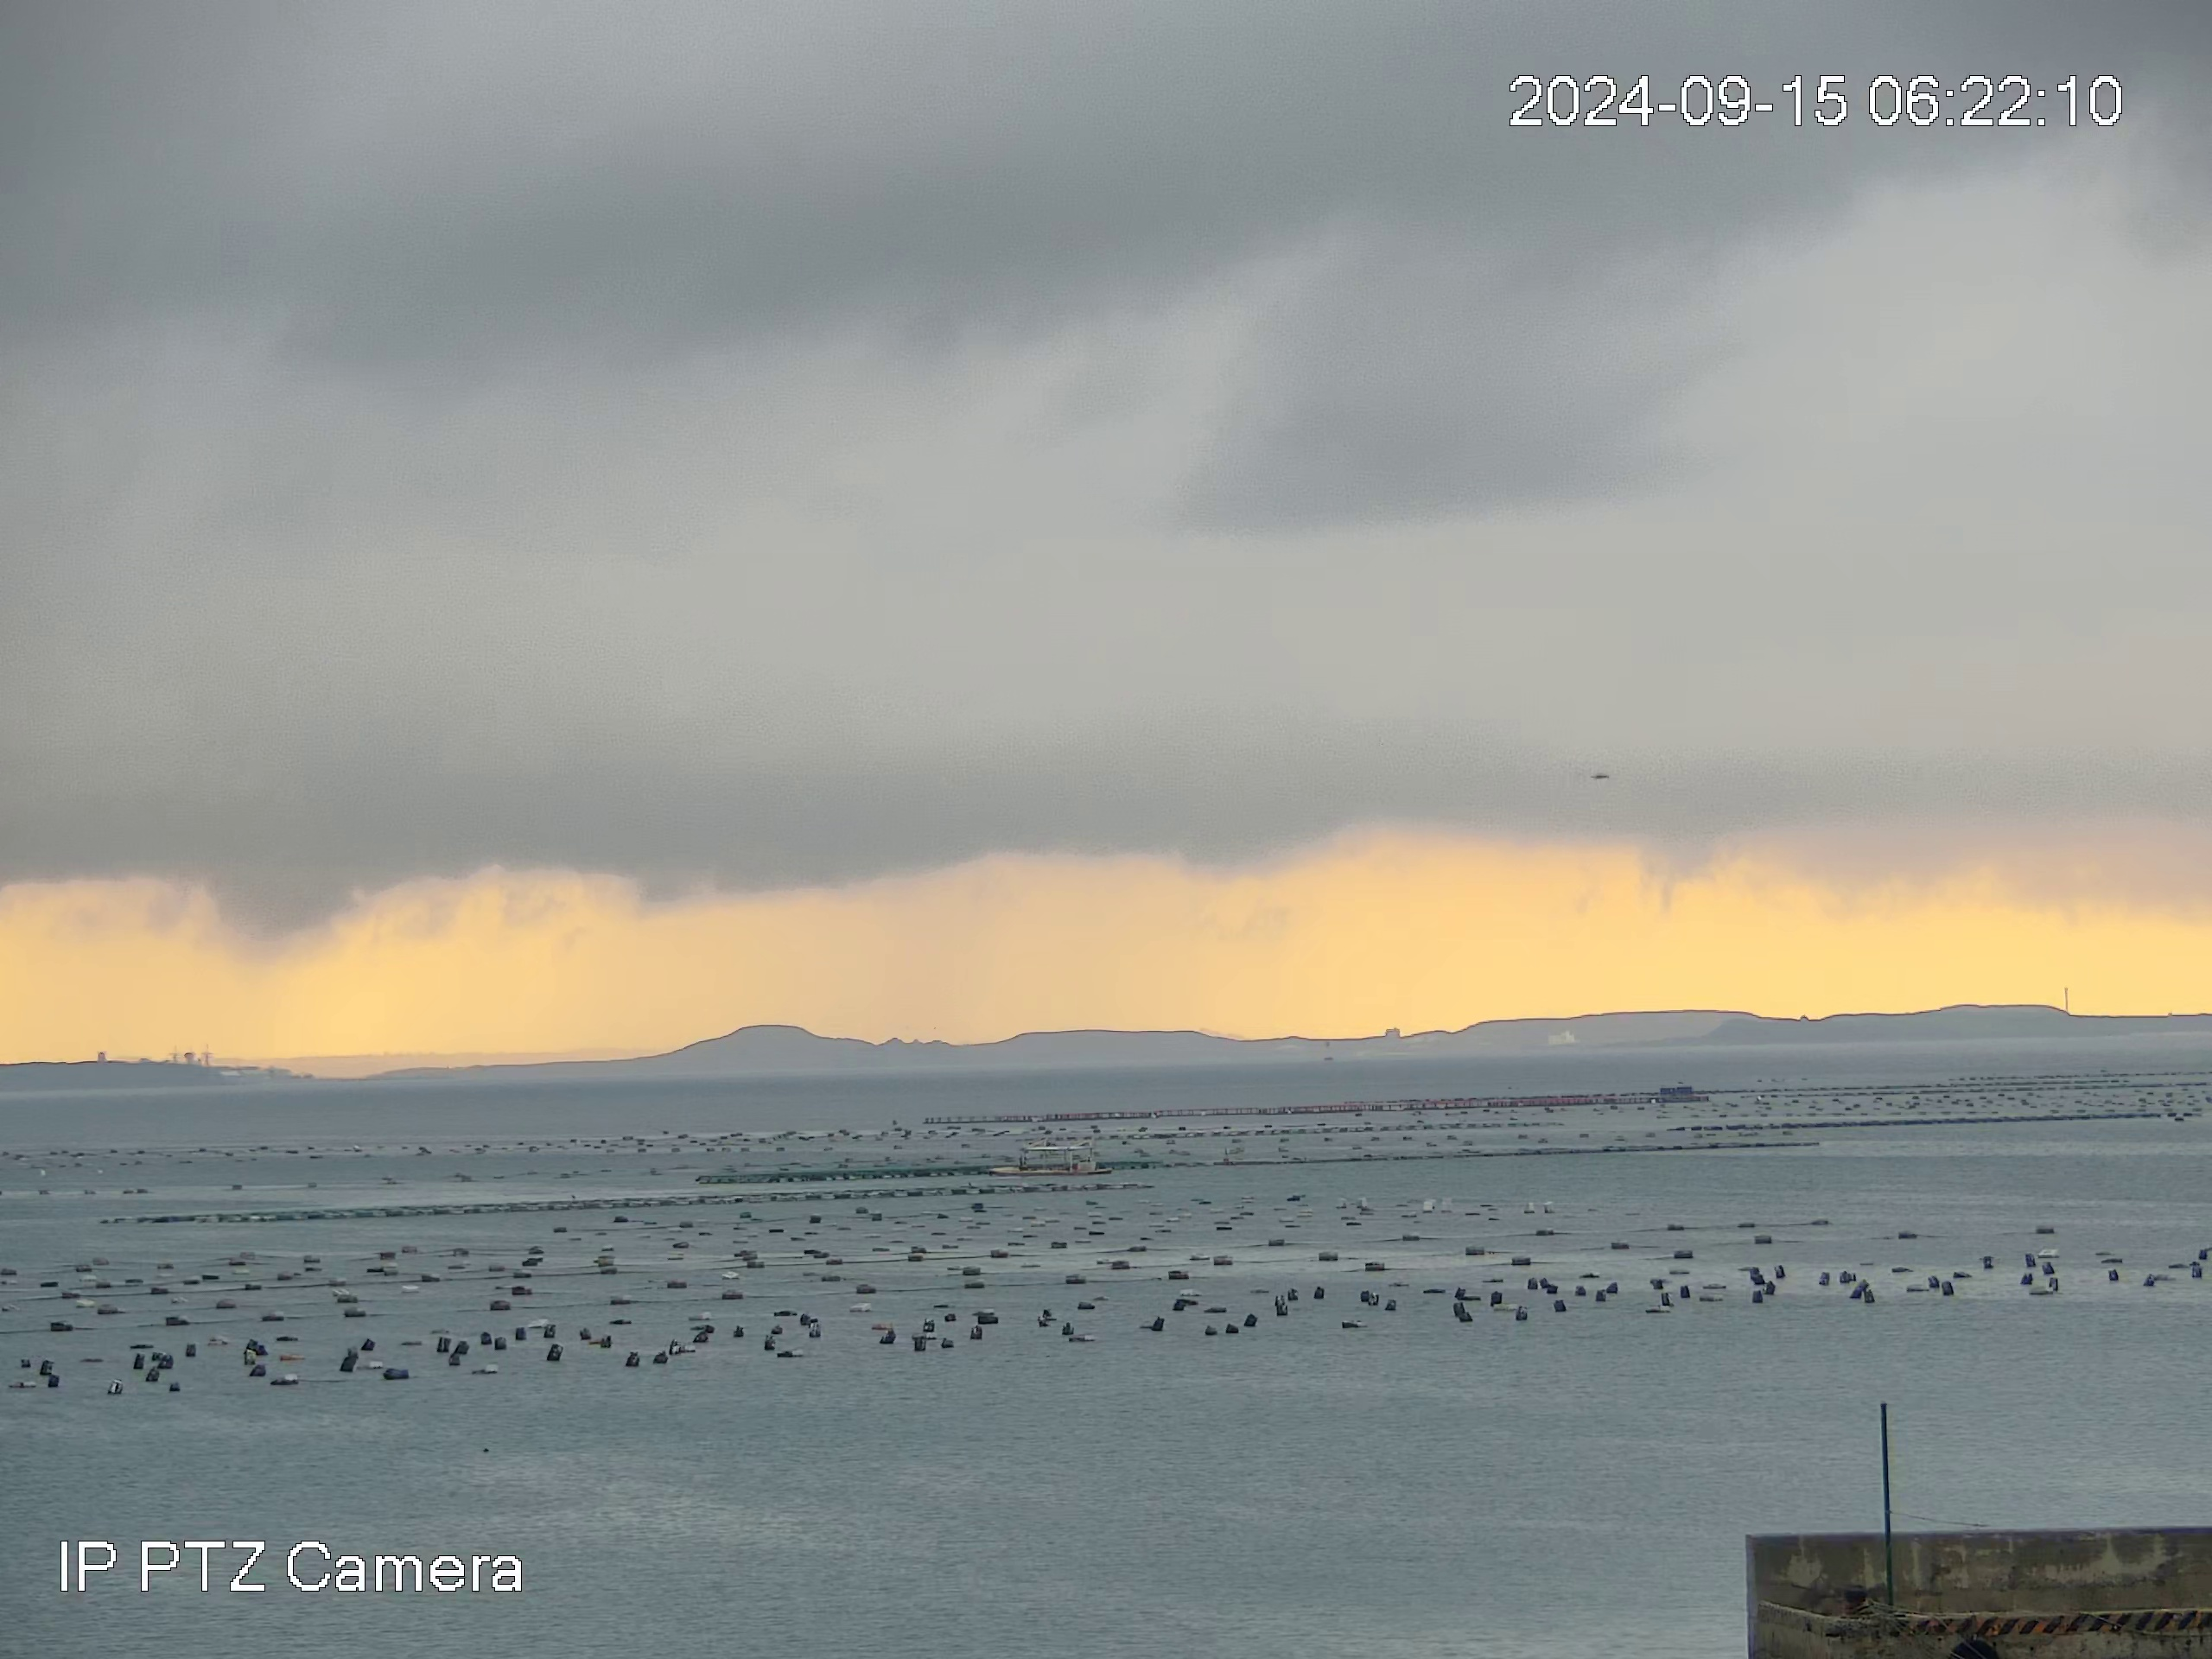boat: (994, 1141, 1105, 1179)
